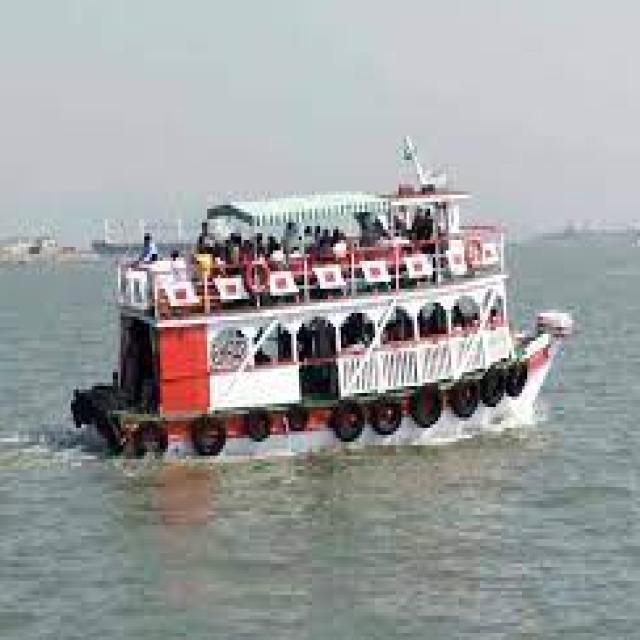passenger ship: (68, 149, 568, 477)
